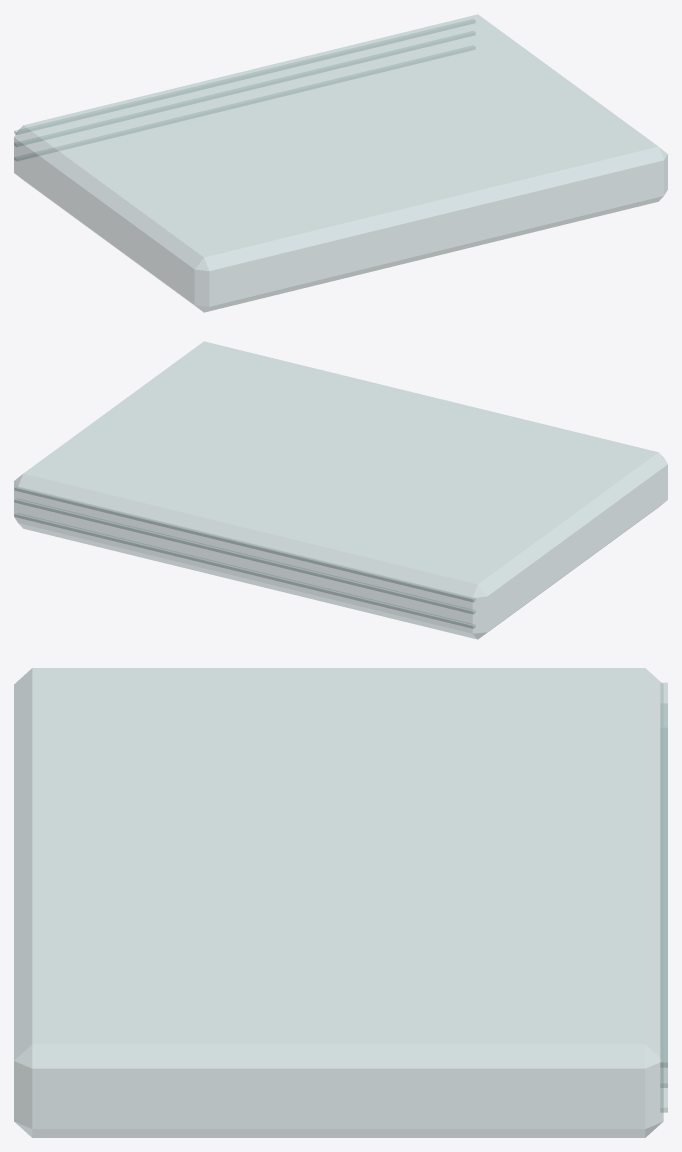
Rendered from reinforced_glass_pane.glb.
The picture shows the model from 3 angles, top to bottom: view 1: azimuth 30°, elevation 25°; view 2: azimuth 150°, elevation 25°; view 3: azimuth 270°, elevation 25°; orthographic projection. The views are drawn at different scales.
Visible parts, largest first — view 1: block_thick laminated glass panel, block_lamination edge (×3); view 2: block_thick laminated glass panel, block_lamination edge (×3); view 3: block_thick laminated glass panel, block_lamination edge (×2).
Boxes of the visible parts, x1=… form: block_thick laminated glass panel: x1=14, y1=14, x2=667, y2=312; block_lamination edge (×3): x1=14, y1=19, x2=475, y2=160; block_thick laminated glass panel: x1=14, y1=341, x2=667, y2=639; block_lamination edge (×3): x1=14, y1=486, x2=475, y2=628; block_thick laminated glass panel: x1=14, y1=668, x2=663, y2=1137; block_lamination edge (×2): x1=660, y1=682, x2=667, y2=1087.
Bounding box in the file's own units: 0.305 × 0.034 × 0.2151.
1 material, 1 textured.
